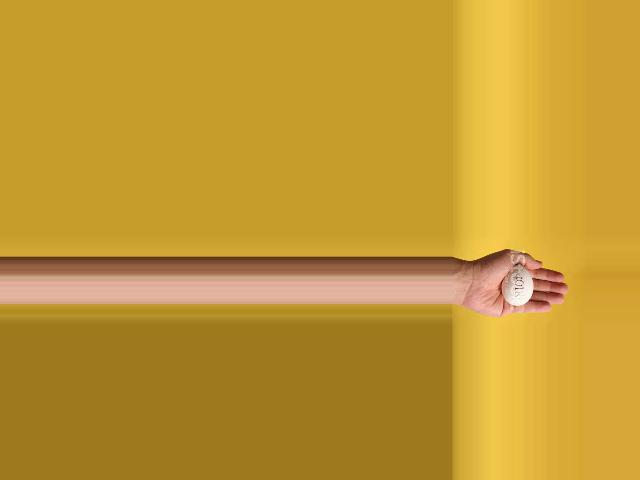egg: (502, 265, 533, 306)
